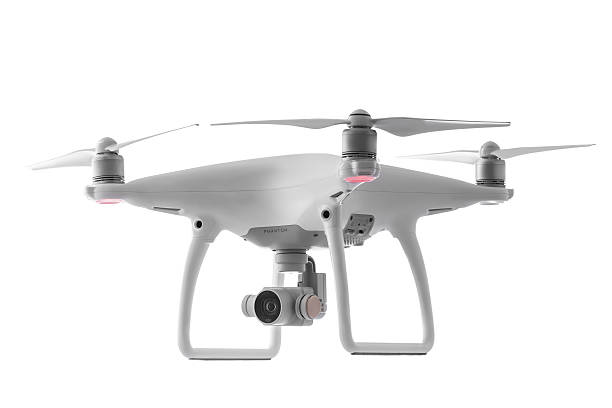Drone: (22, 103, 600, 358)
